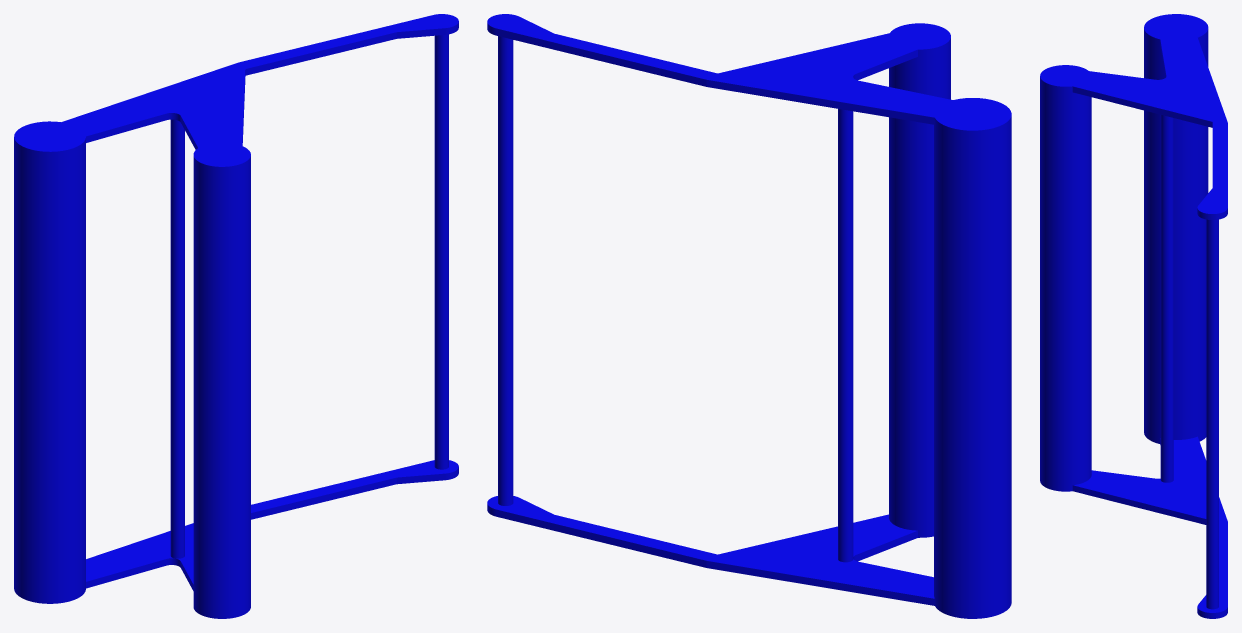
3 views of the same model, side by side, from view 1: azimuth 30°, elevation 25°; view 2: azimuth 150°, elevation 25°; view 3: azimuth 270°, elevation 25° (orthographic). The views are drawn at different scales.
Visible parts, largest first — view 1: Test Bot for advantge scope v1; view 2: Test Bot for advantge scope v1; view 3: Test Bot for advantge scope v1.
Boxes of the visible parts, x1=… form: Test Bot for advantge scope v1: x1=14, y1=14, x2=458, y2=618; Test Bot for advantge scope v1: x1=487, y1=14, x2=1011, y2=618; Test Bot for advantge scope v1: x1=1040, y1=14, x2=1227, y2=618.
Size of the model in its own units: 0.4666 by 0.44 by 0.185.
